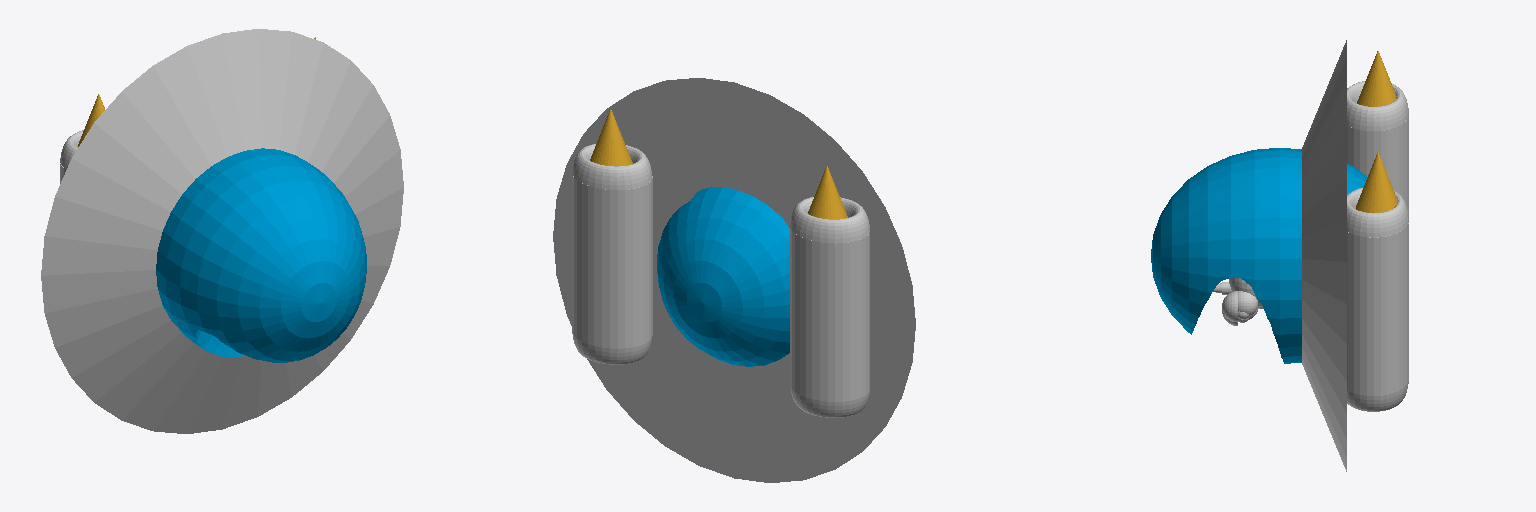
File: alien_spaceship.obj
3 views of the same model, side by side, from view 1: azimuth 30°, elevation 25°; view 2: azimuth 150°, elevation 25°; view 3: azimuth 270°, elevation 25° (orthographic).
Visible parts, largest first — view 1: obj_0; view 2: obj_0; view 3: obj_0.
Part boxes in pixels (left/top/right/bottom): obj_0: left=41, top=29, right=403, bottom=433; obj_0: left=553, top=78, right=915, bottom=482; obj_0: left=1151, top=40, right=1408, bottom=471.
Bounding box in the file's own units: 45 × 46.91 × 27.77.